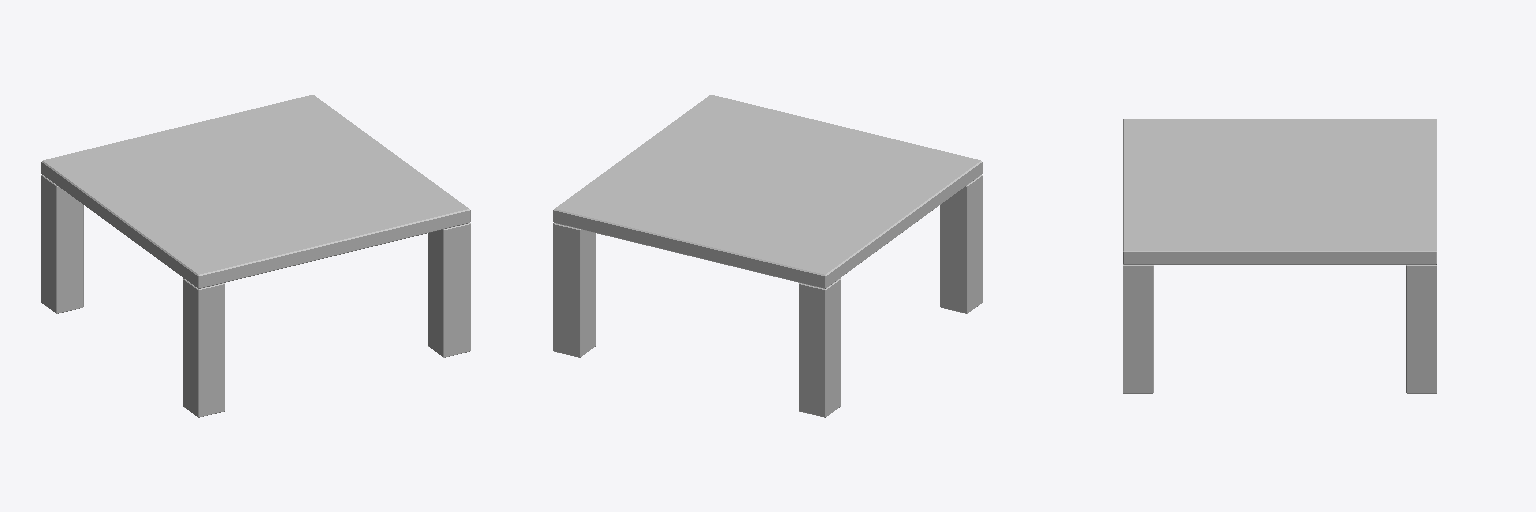
File: Table.obj
3 renders of one model, left to right at view 1: azimuth 30°, elevation 25°; view 2: azimuth 150°, elevation 25°; view 3: azimuth 270°, elevation 25°, orthographic.
Visible parts, largest first — view 1: Cube_Cube.001; view 2: Cube_Cube.001; view 3: Cube_Cube.001.
Boxes of the visible parts, box(x1,y1,x2,y2) form: Cube_Cube.001: box(41, 95, 470, 417); Cube_Cube.001: box(553, 95, 982, 417); Cube_Cube.001: box(1123, 119, 1436, 393).
Size of the model in its own units: 1 by 0.5 by 1.